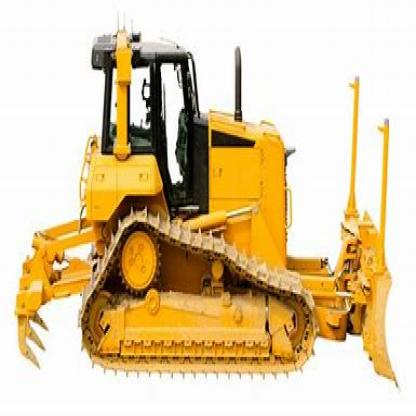bull_dozer/loader/grader: (7, 20, 415, 394)
